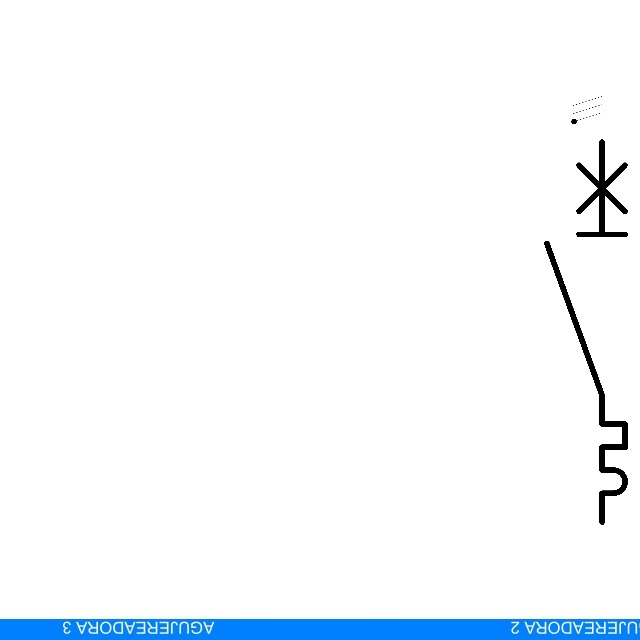interruptor_termomagnetico: (537, 132, 635, 531)
